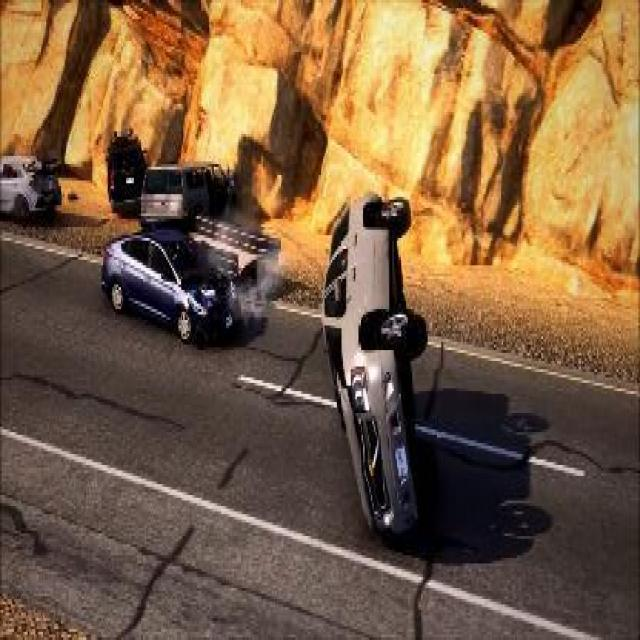accident: (315, 175, 443, 544)
